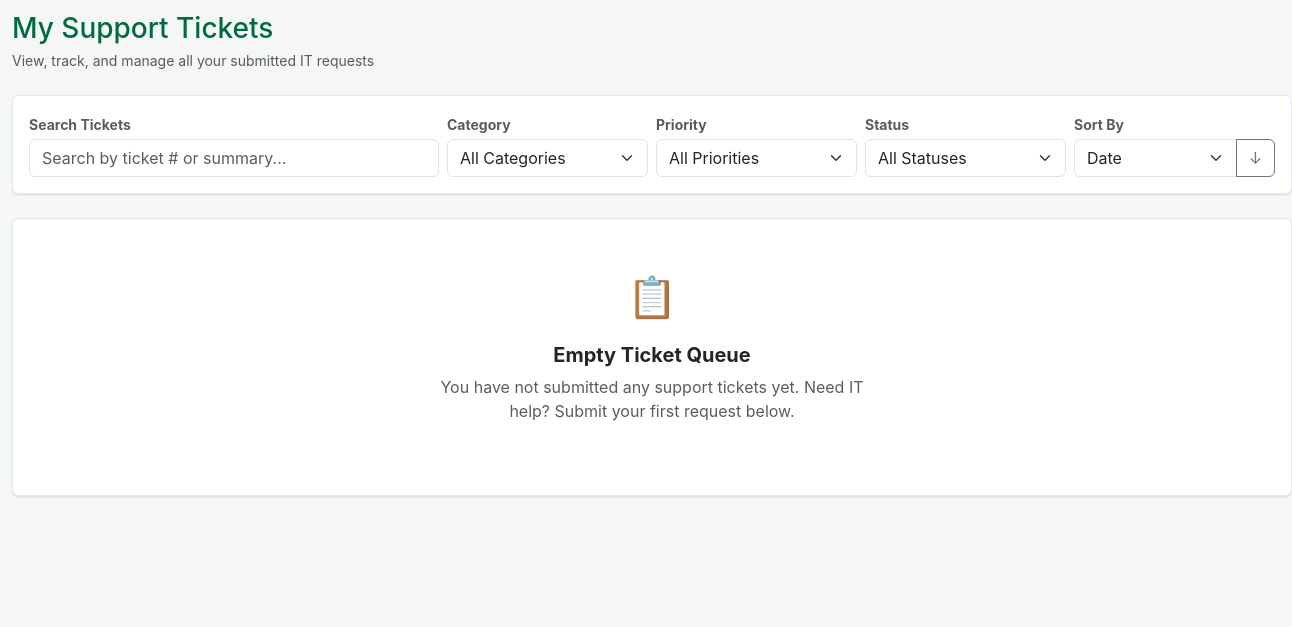
Test case: MyTickets Component (UI-05 / AC-07, AC-08, AC-09, AC-10, AC-11, FR-07, FR-08, FR-09) › UI-05 / AC-11: renders 'No Matching Tickets Found' callout with Clear Filters action when filter yields 0 results
// Enter a search query that activates filters
Type "nonexistent" into the field with test id "ticket-search-input" at point(234, 158), box [29,139,439,177]
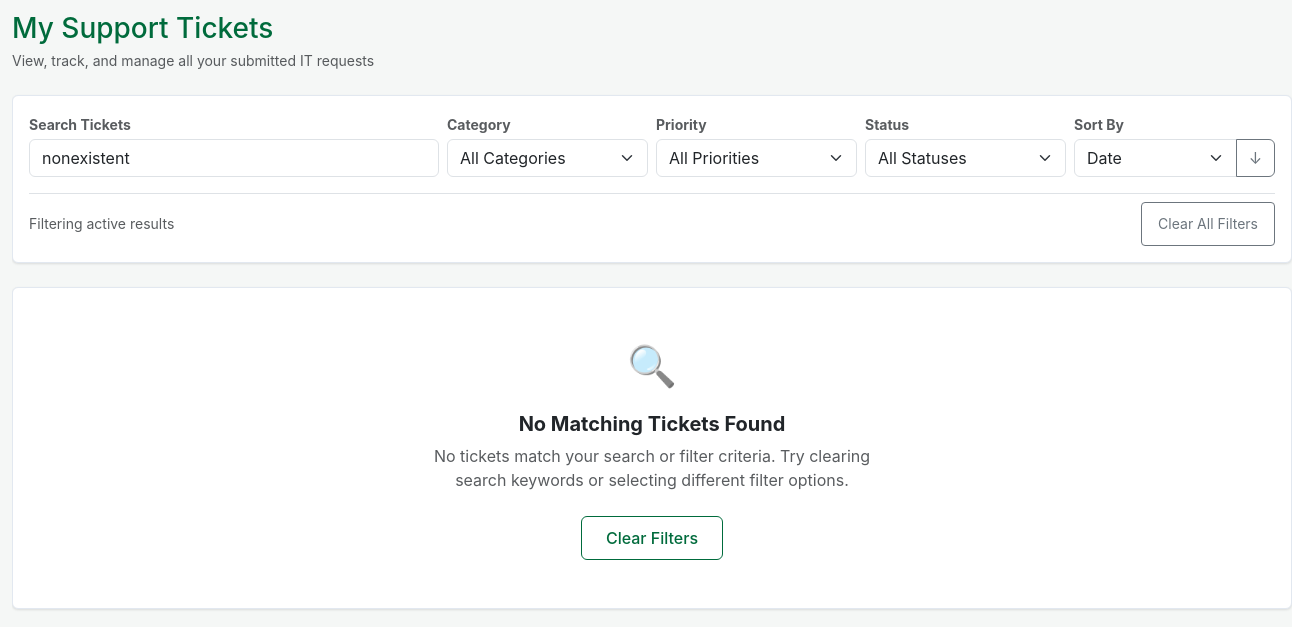
Check: the element with test id "no-results-state" is shown, box [434,341,870,560]
Check: the heading "No Matching Tickets Found" is shown, box [519,412,785,436]
Check: the text "No tickets match your search or filter criteria" is shown, box [434,446,870,490]
Click the button with test id "clear-filters-btn-empty" at point(652, 538), box [581,516,723,560]
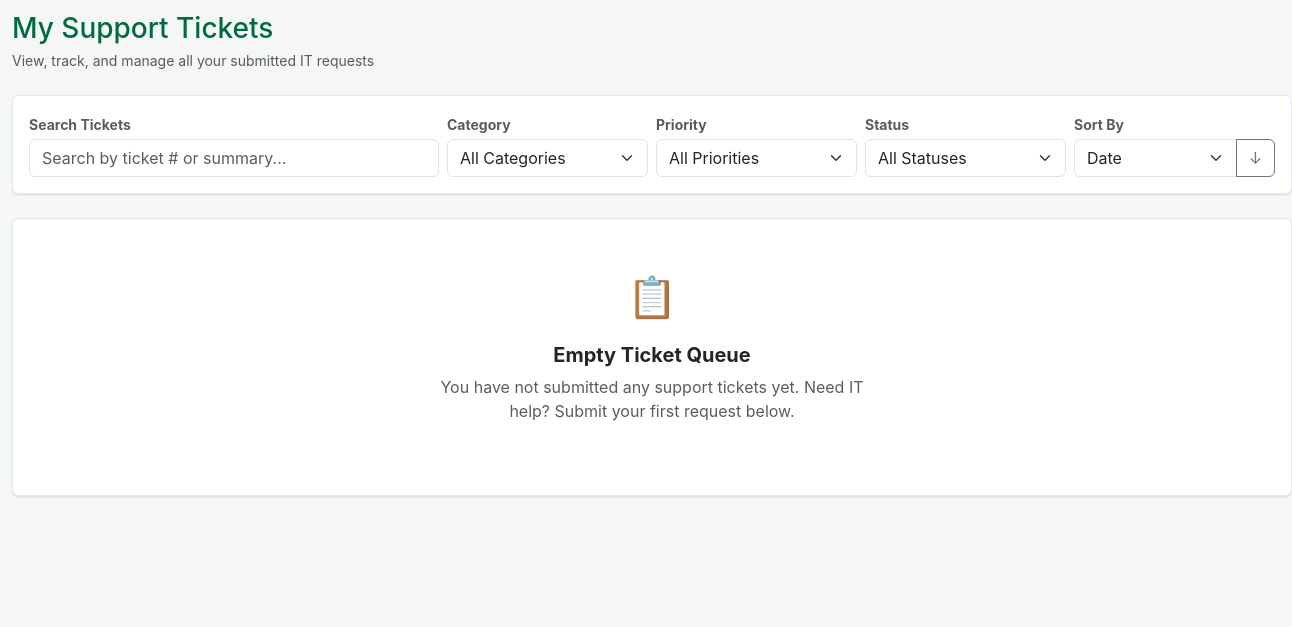
Check: the field with test id "ticket-search-input" is empty, box [29,139,439,177]
